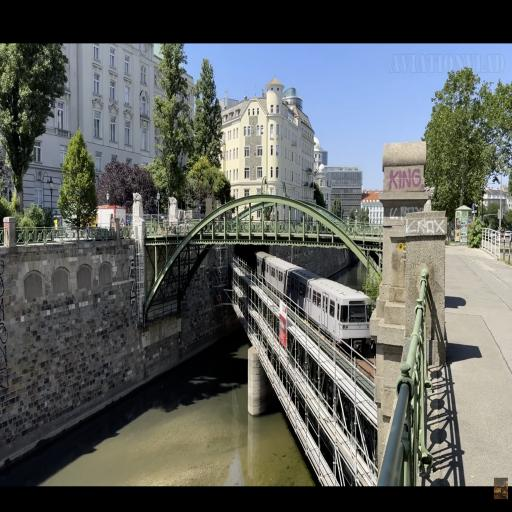Silberpfeil: (252, 250, 376, 346)
